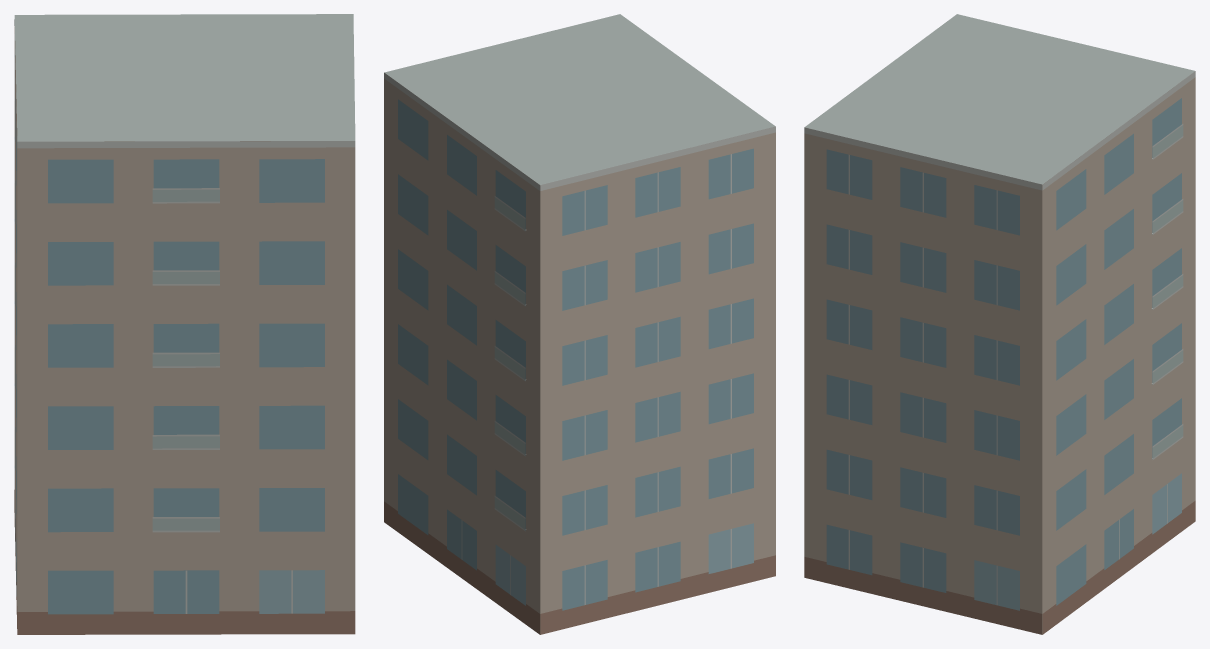
File: survey-upis-32740995.glb
3 renders of one model, left to right at view 1: azimuth 30°, elevation 25°; view 2: azimuth 150°, elevation 25°; view 3: azimuth 270°, elevation 25°, orthographic. The views are drawn at different scales.
Parts seen in each view (by area): view 1: survey-upis-32740995.tmp; view 2: survey-upis-32740995.tmp; view 3: survey-upis-32740995.tmp.
Part boxes in pixels (<box>): survey-upis-32740995.tmp: <box>14,14,355,634</box>; survey-upis-32740995.tmp: <box>384,14,775,634</box>; survey-upis-32740995.tmp: <box>804,14,1195,634</box>.
Size of the model in its own units: 14.88 by 18.3 by 14.42.
